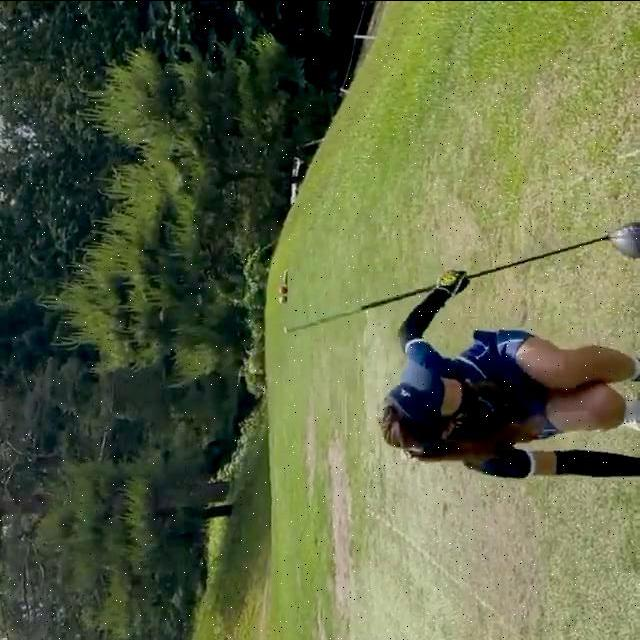ClubHandle: (282, 222, 640, 334)
ClubHead: (610, 223, 640, 258)
